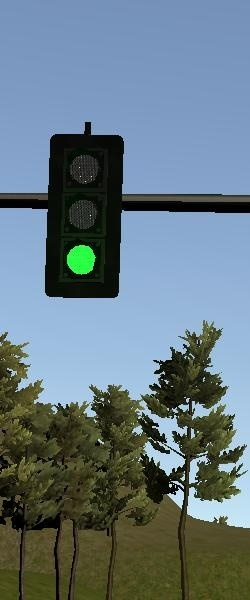Green: (48, 134, 119, 299)
